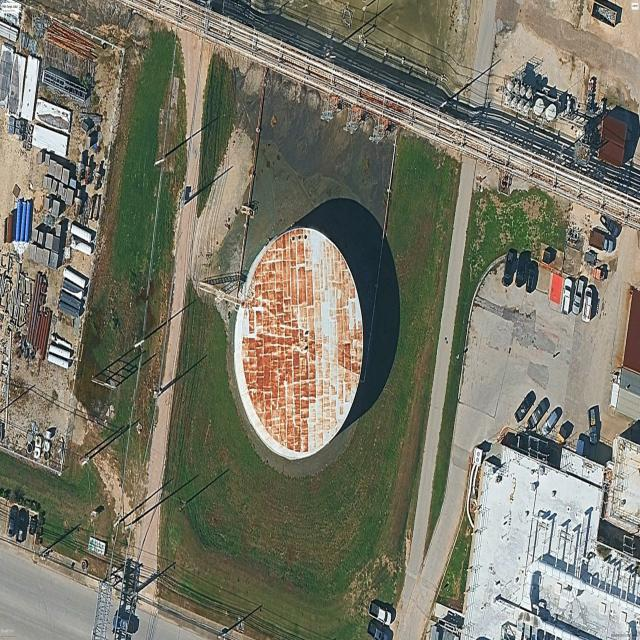Oil Rafinery: (234, 227, 363, 459)
